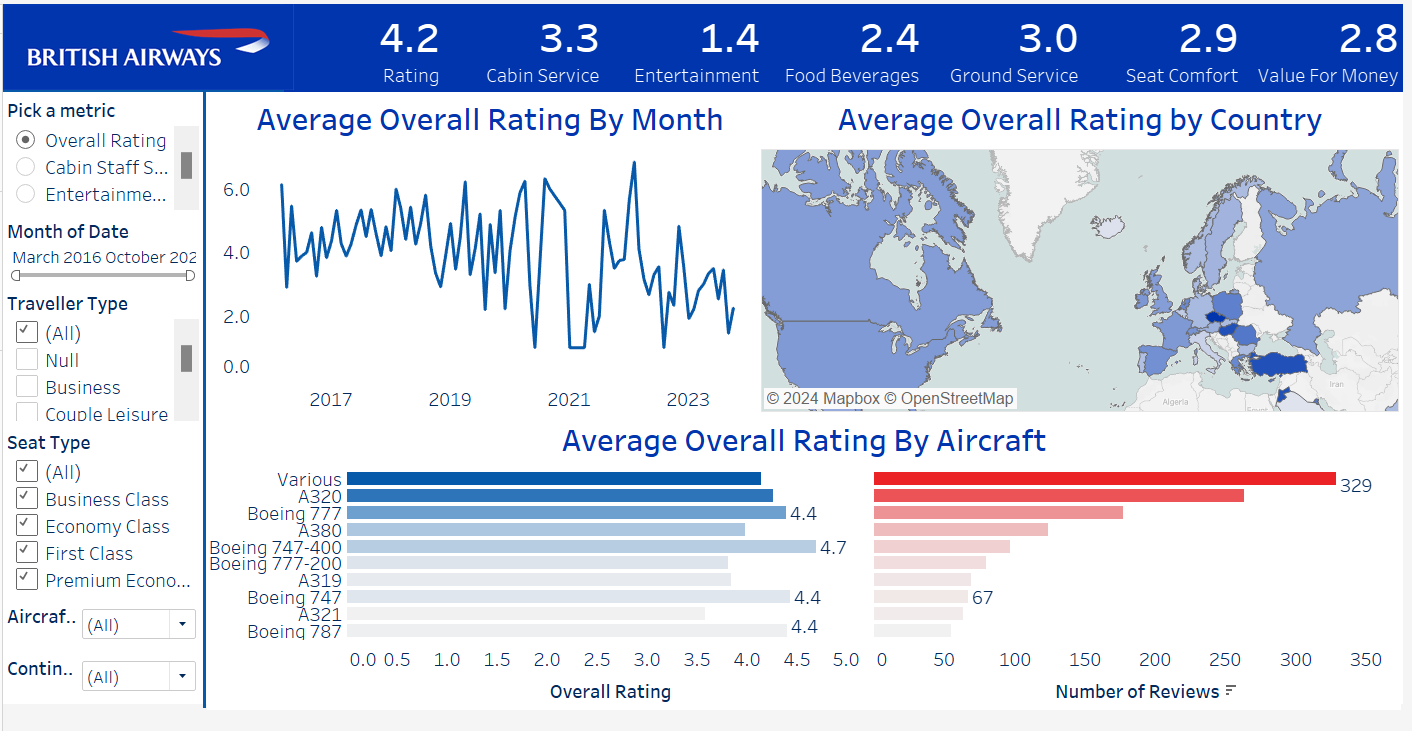

Layout of this report page (visuals, bound fields, positions):
{"tool":"tableau","page":{"name":"Dashboard 1","canvas":[1400,700],"ordinal":0},"visuals":[{"type":"text","box":[0,0,300,87.5]},{"type":"image","param":"Image/logo.png","box":[0,0,308,86]},{"type":"worksheet","title":"Summary","mark":"Automatic","box":[281,0,1119,88]},{"type":"parameter","param":"[Parameters].[Parameter 1]","box":[0,89.2,200,121]},{"type":"worksheet","title":"Month","mark":"Line","rows":["Calculation_14214508249006125"],"cols":["date"],"box":[220,89.2,534,317.6]},{"type":"worksheet","title":"Map","mark":"Automatic","box":[758,89.2,638,318.5]},{"type":"filter","title":"Map","param":"[federated.1jupb4u1wgynnc120vl550gbh8oi].[tmn:date:qk]","box":[0,210.3,200,72]},{"type":"filter","title":"Map","param":"[federated.1jupb4u1wgynnc120vl550gbh8oi].[none:traveller_type:nk]","box":[0,282.3,200,139]},{"type":"filter","title":"Map","param":"[federated.1jupb4u1wgynnc120vl550gbh8oi].[none:seat_type:nk]","box":[0,421.3,200,177]},{"type":"filter","title":"Map","param":"[federated.1jupb4u1wgynnc120vl550gbh8oi].[Aircraft (group)]","box":[0,598.3,200,52.2]},{"type":"filter","title":"Map","param":"[federated.1jupb4u1wgynnc120vl550gbh8oi].[none:Continent:nk]","box":[0,650.4,200,52.2]}]}

Visuals, with their boxes on the page's 1400x700 design canvas (x1, y1, x2, y2). These are canvas units, not pixel positions in the 1412x731 screenshot, which may show the page scaled, cropped or inside an application window:
text: (x1=0, y1=0, x2=300, y2=88)
image: (x1=0, y1=0, x2=308, y2=86)
"Summary" worksheet: (x1=281, y1=0, x2=1400, y2=88)
parameter: (x1=0, y1=89, x2=200, y2=210)
"Month" worksheet (Line marks): (x1=220, y1=89, x2=754, y2=407)
"Map" worksheet: (x1=758, y1=89, x2=1396, y2=408)
"Map" filter: (x1=0, y1=210, x2=200, y2=282)
"Map" filter: (x1=0, y1=282, x2=200, y2=421)
"Map" filter: (x1=0, y1=421, x2=200, y2=598)
"Map" filter: (x1=0, y1=598, x2=200, y2=650)
"Map" filter: (x1=0, y1=650, x2=200, y2=703)
